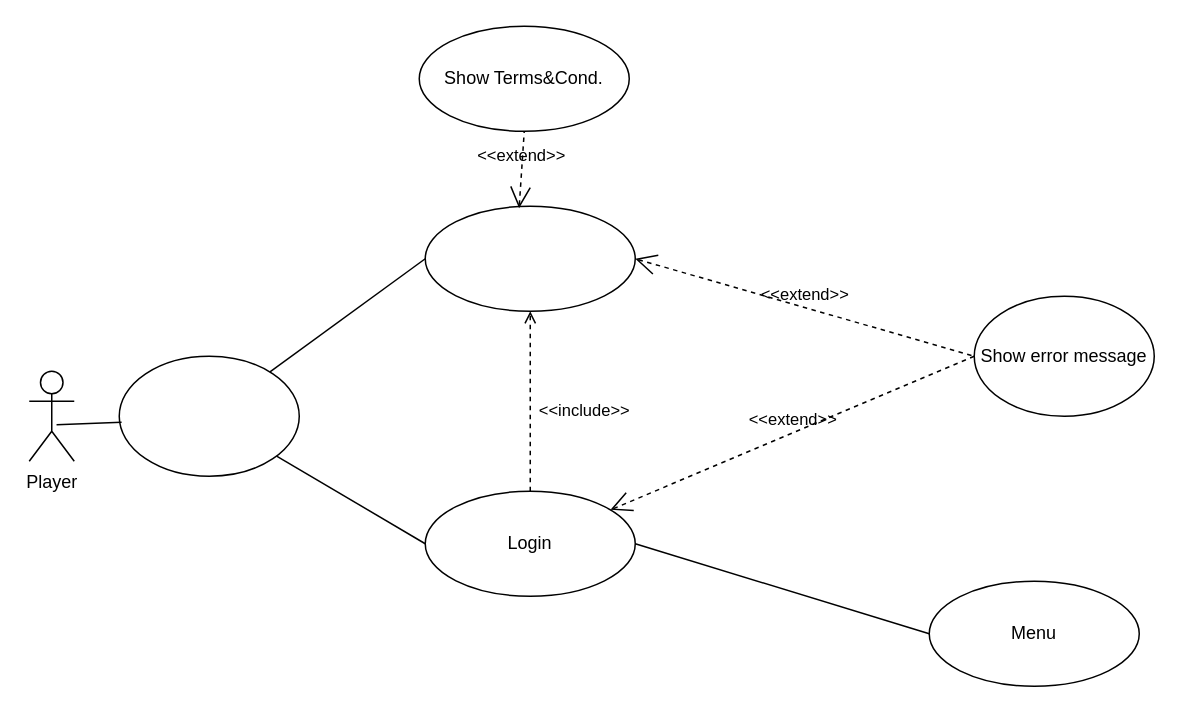
Some shapes in this 1181 by 713 pixel diagram are drawn without their labels. Each missing label, with the box of its shape:
Open Application: (118, 355, 299, 476)
Register: (424, 205, 635, 311)
